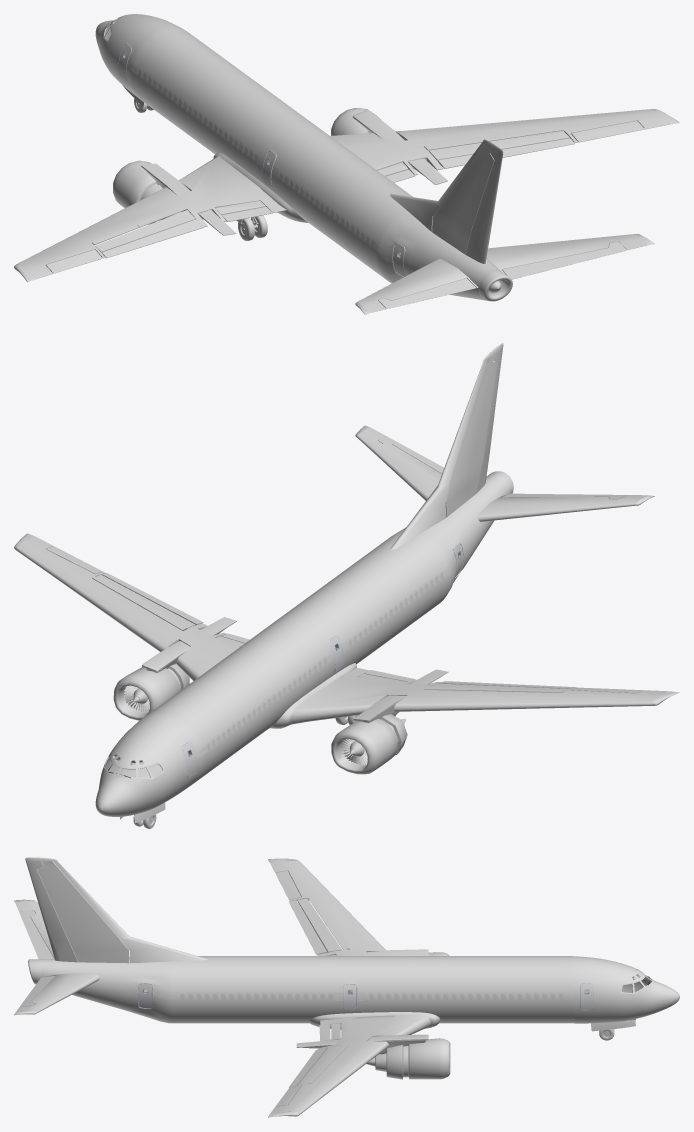
Rendered from Avião Externa.FBX.
3 views of the same model, one above another, from view 1: azimuth 30°, elevation 25°; view 2: azimuth 150°, elevation 25°; view 3: azimuth 270°, elevation 25° (orthographic). The views are drawn at different scales.
Visible parts, largest first — view 1: Aviao completo, Aviao Vidros Externos; view 2: Aviao completo, Aviao Vidros Externos; view 3: Aviao completo, Aviao Vidros Externos.
Boxes of the visible parts, x1,y1,x2,y2 form: Aviao completo: (14,14,679,314); Aviao Vidros Externos: (137,69,373,246); Aviao completo: (14,343,679,828); Aviao Vidros Externos: (107,572,443,771); Aviao completo: (14,857,679,1117); Aviao Vidros Externos: (179,981,646,999).
Size of the model in its own units: 35929 by 11765 by 39122.
